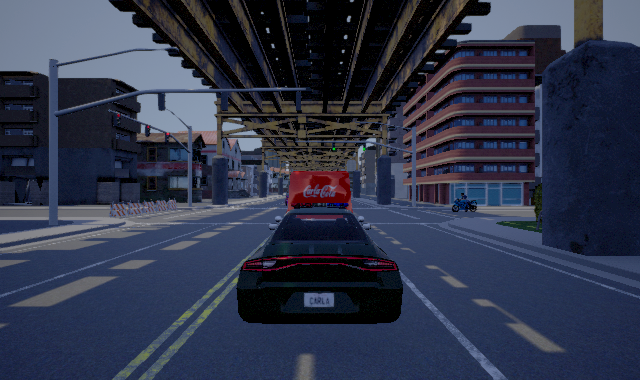motobike: (445, 189, 483, 220)
traffic_light: (114, 113, 121, 127), (145, 124, 151, 137), (165, 132, 170, 143), (363, 142, 366, 151), (332, 142, 335, 151)
vehicle: (236, 208, 403, 324), (284, 168, 356, 242)
